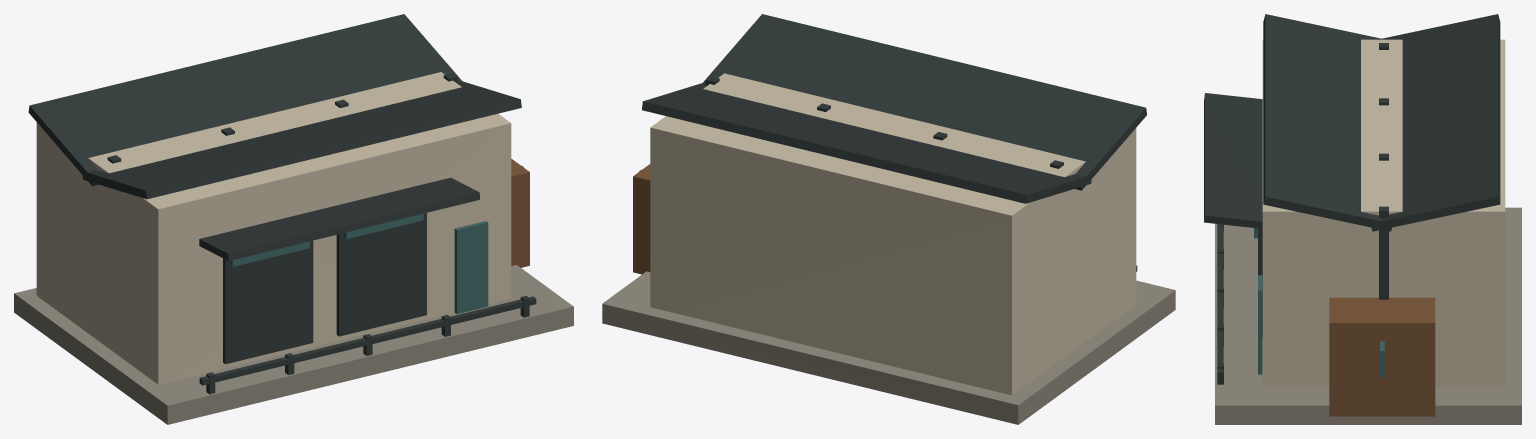
The model's file is Export-Warehouse.glb.
The picture shows the model from 3 angles, left to right: view 1: azimuth 30°, elevation 25°; view 2: azimuth 150°, elevation 25°; view 3: azimuth 270°, elevation 25°; orthographic projection. The views are drawn at different scales.
Visible parts, largest first — view 1: export-warehouse-static-export-warehouse-charcoal-steel, export-warehouse-static-export-warehouse-cream-wall-panels, export-warehouse-static-export-warehouse-pale-concrete, export-warehouse-static-export-warehouse-muted-teal-doors, export-warehouse-static-export-warehouse-warm-timber-office; view 2: export-warehouse-static-export-warehouse-cream-wall-panels, export-warehouse-static-export-warehouse-charcoal-steel, export-warehouse-static-export-warehouse-pale-concrete, export-warehouse-static-export-warehouse-warm-timber-office; view 3: export-warehouse-static-export-warehouse-charcoal-steel, export-warehouse-static-export-warehouse-cream-wall-panels, export-warehouse-static-export-warehouse-pale-concrete, export-warehouse-static-export-warehouse-warm-timber-office, export-warehouse-static-export-warehouse-muted-teal-doors.
Boxes of the visible parts, x1,y1,x2,y2 form: export-warehouse-static-export-warehouse-charcoal-steel: (28, 14, 536, 394); export-warehouse-static-export-warehouse-cream-wall-panels: (36, 72, 511, 384); export-warehouse-static-export-warehouse-pale-concrete: (14, 265, 573, 424); export-warehouse-static-export-warehouse-muted-teal-doors: (230, 165, 523, 313); export-warehouse-static-export-warehouse-warm-timber-office: (511, 159, 529, 267); export-warehouse-static-export-warehouse-cream-wall-panels: (650, 73, 1136, 395); export-warehouse-static-export-warehouse-charcoal-steel: (642, 14, 1146, 271); export-warehouse-static-export-warehouse-pale-concrete: (602, 271, 1175, 424); export-warehouse-static-export-warehouse-warm-timber-office: (633, 164, 650, 274); export-warehouse-static-export-warehouse-charcoal-steel: (1204, 14, 1500, 384); export-warehouse-static-export-warehouse-cream-wall-panels: (1262, 39, 1505, 386); export-warehouse-static-export-warehouse-pale-concrete: (1215, 207, 1521, 424); export-warehouse-static-export-warehouse-warm-timber-office: (1329, 297, 1435, 416); export-warehouse-static-export-warehouse-muted-teal-doors: (1254, 228, 1384, 377).
Bounding box in the file's own units: 9.08 × 4.25 × 5.69.
